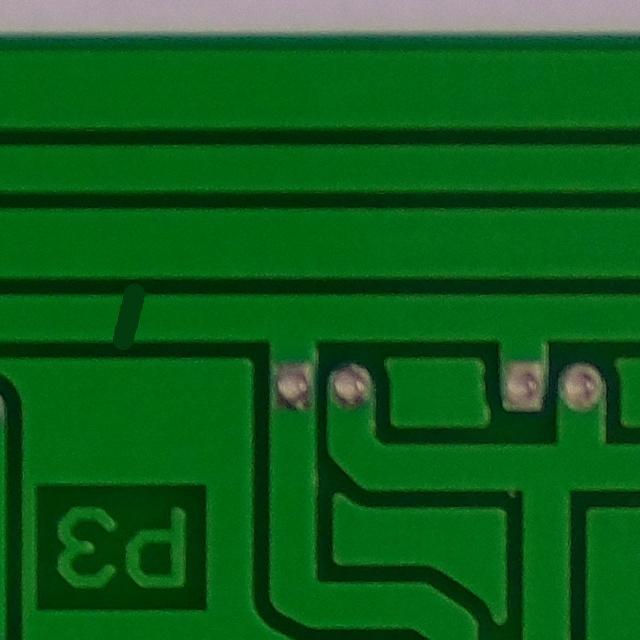open_circuit: (86, 279, 166, 348)
